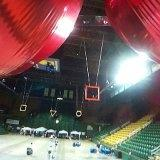Orange_Square_GShape: (85, 85, 100, 102)
Yellow_Circle_GShape: (76, 110, 82, 118)
Yellow_Square_GShape: (20, 104, 28, 112)
Yellow_Triangle_Gshape: (49, 110, 57, 116)
